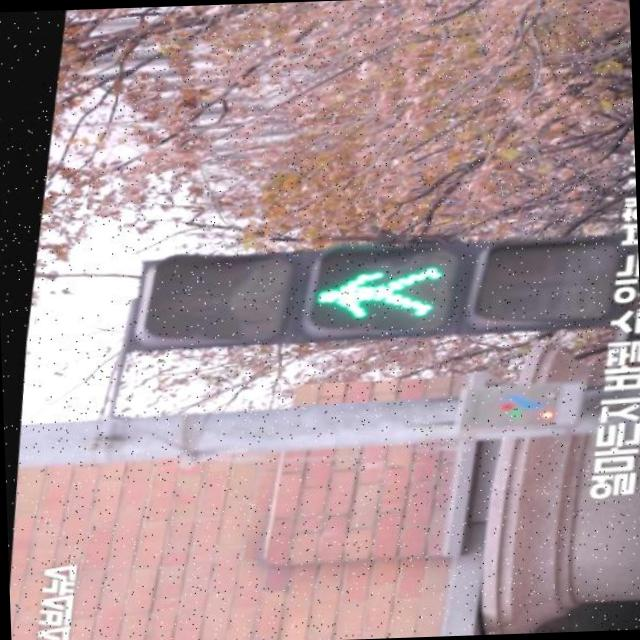green_light: (302, 256, 443, 342)
